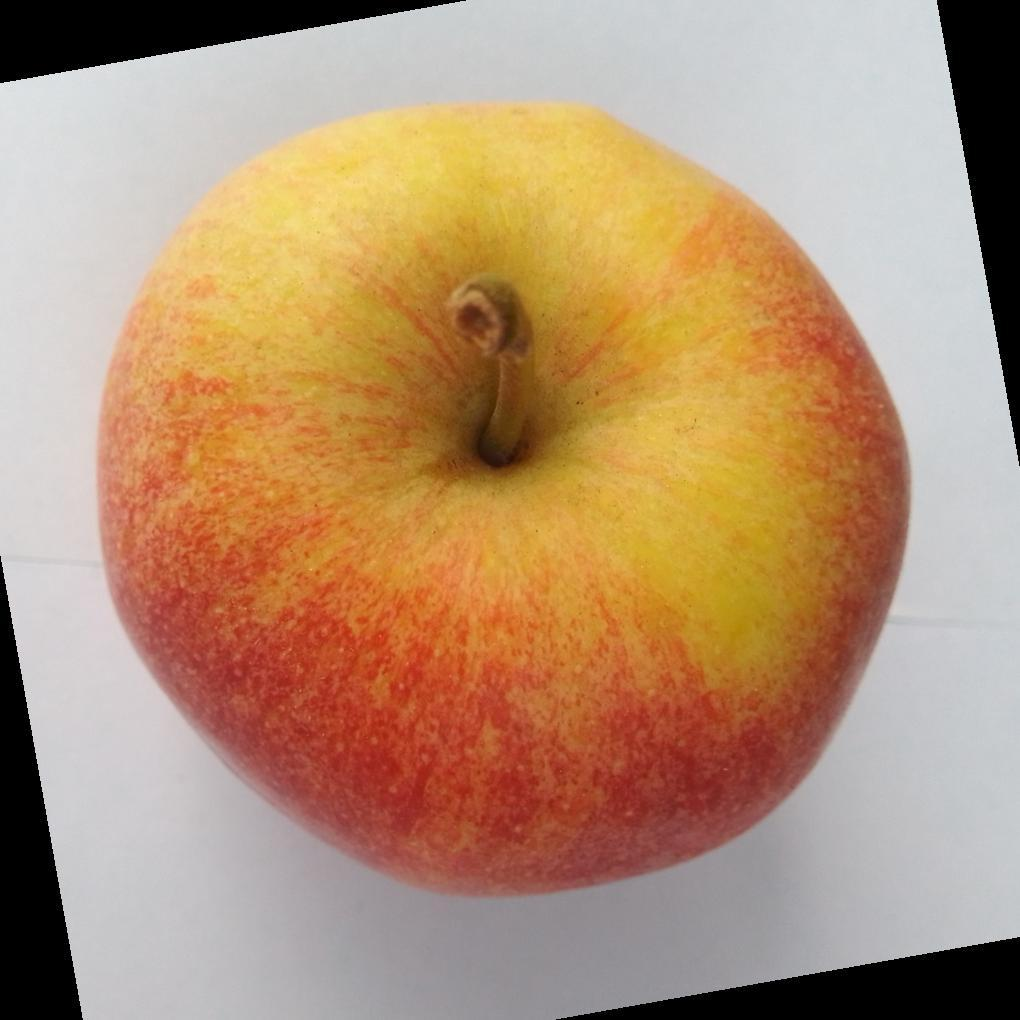FreshGuava: (95, 101, 914, 904)
